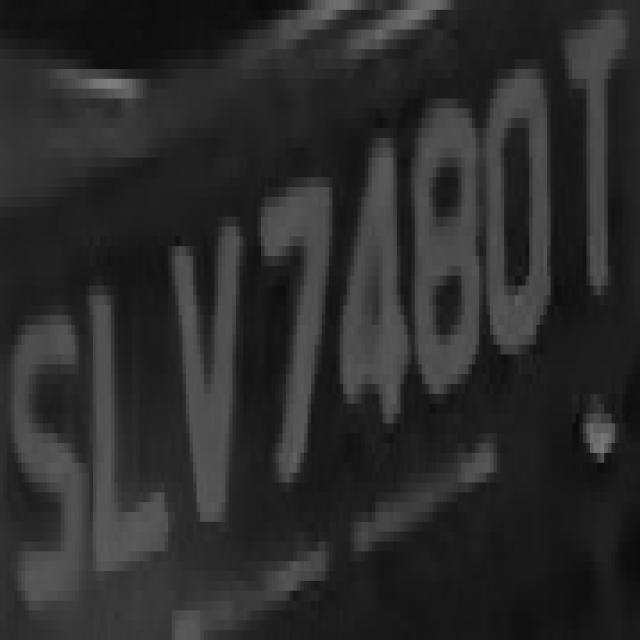0: (472, 59, 554, 394)
4: (326, 108, 418, 443)
7: (254, 177, 343, 522)
8: (411, 99, 490, 424)
L: (82, 256, 168, 581)
S: (15, 266, 90, 620)
T: (562, 10, 636, 315)
V: (164, 226, 261, 542)
